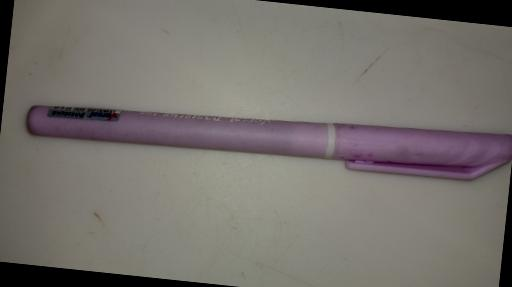pen: (24, 87, 512, 185)
